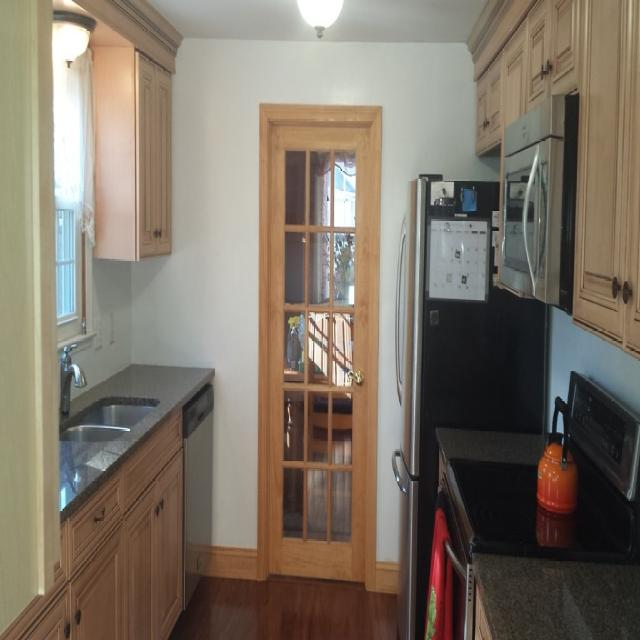door: (254, 96, 385, 604)
